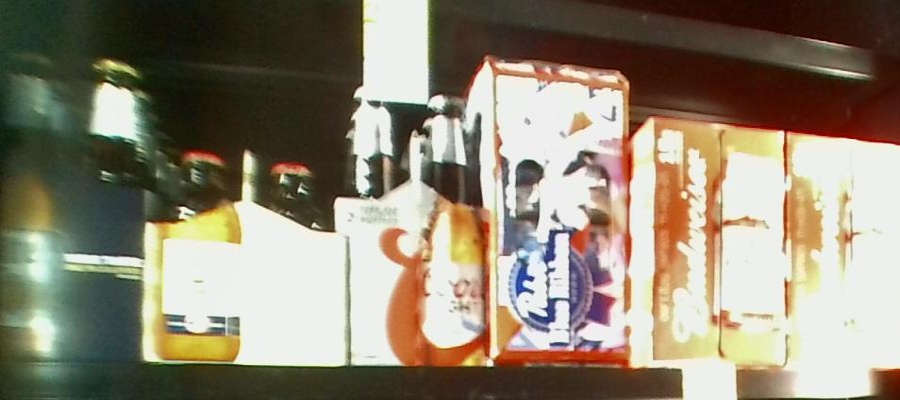bottle: (483, 50, 630, 369), (147, 132, 345, 368), (1, 50, 145, 365), (342, 81, 490, 368), (637, 117, 784, 370), (787, 132, 899, 371)
